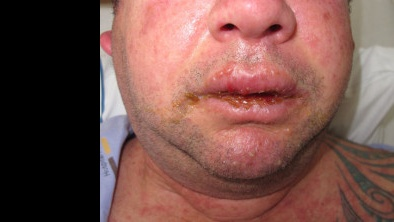SJS-TEN: (104, 0, 394, 222)
